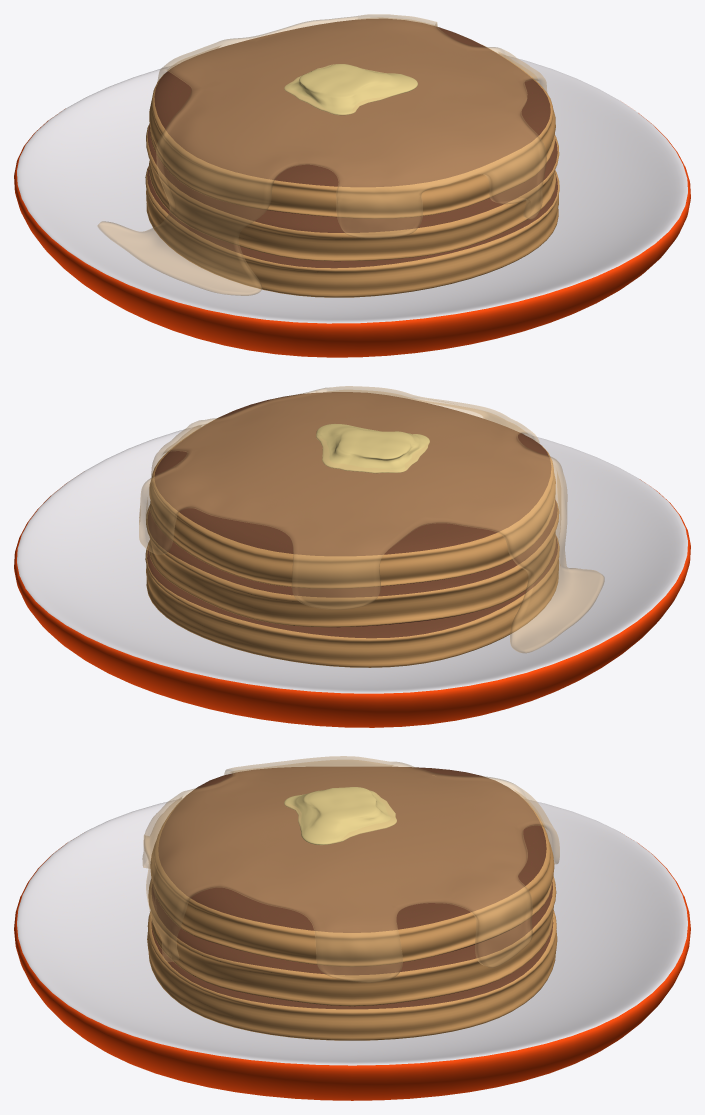
Rendered from pancakes.glb.
The picture shows the model from 3 angles, top to bottom: view 1: azimuth 30°, elevation 25°; view 2: azimuth 150°, elevation 25°; view 3: azimuth 270°, elevation 25°; orthographic projection. The views are drawn at different scales.
Visible parts, largest first — view 1: Plane; view 2: Plane; view 3: Plane.
Boxes of the visible parts, bbox=[...] form: Plane: bbox=[14, 14, 690, 357]; Plane: bbox=[14, 386, 690, 727]; Plane: bbox=[14, 756, 690, 1100].
Bounding box in the file's own units: 4.13 × 1.27 × 4.13.
6 materials, 6 textured.
